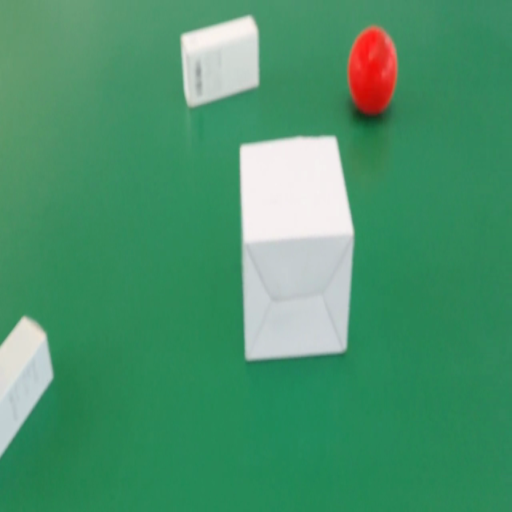ball: (345, 24, 395, 114)
